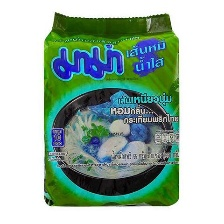snack: (34, 4, 186, 213)
